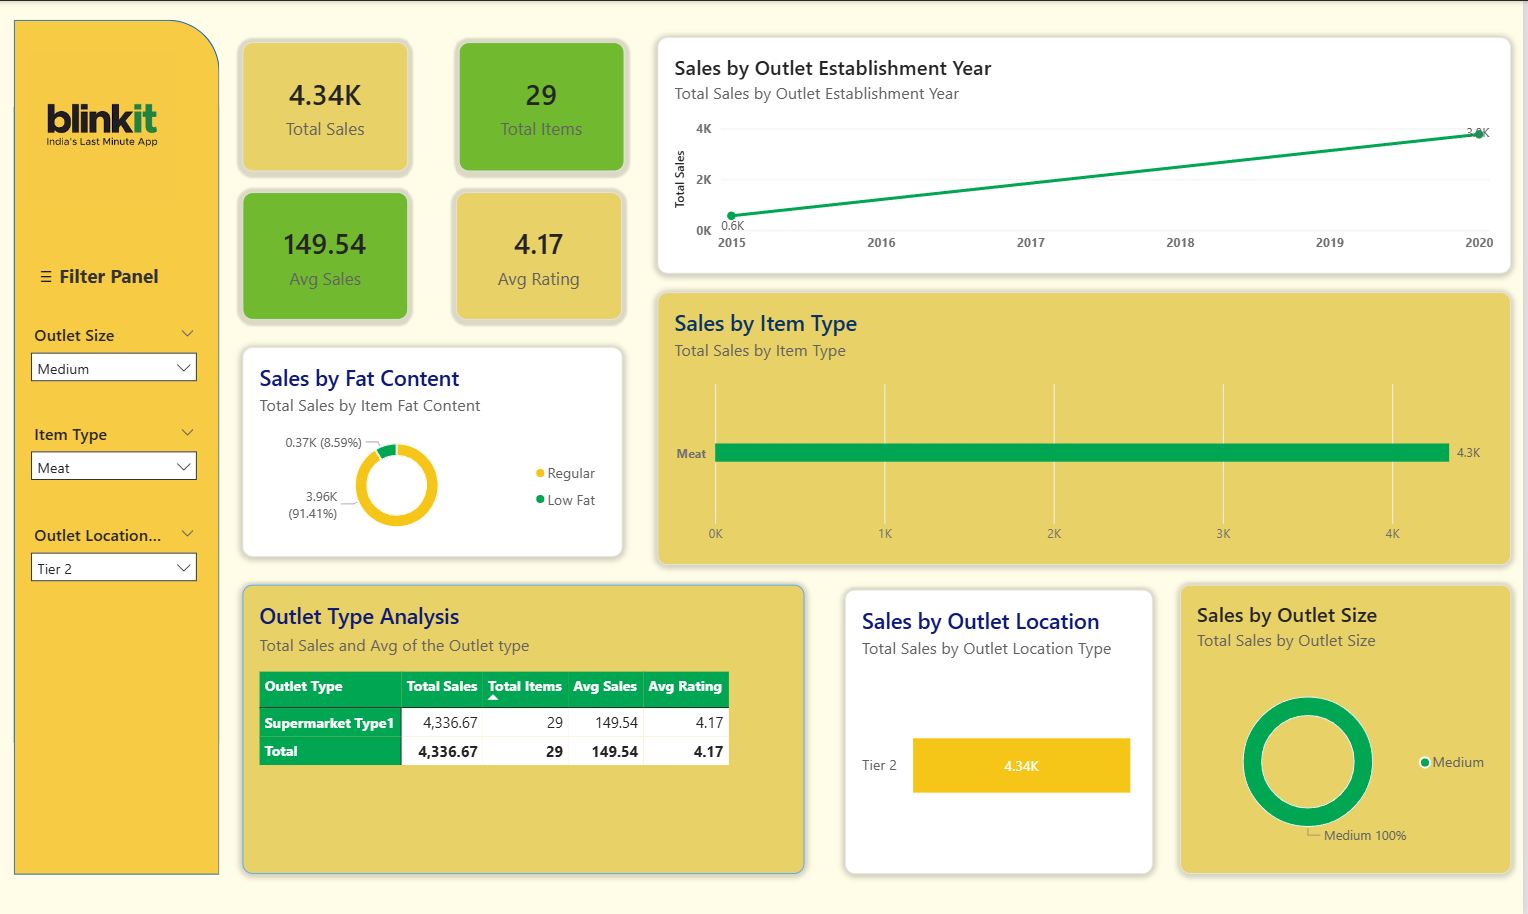

Layout of this report page (visuals, bound fields, positions):
{"tool":"powerbi","page":{"name":"Page 1","canvas":[1500,900],"ordinal":0},"visuals":[{"type":"card","fields":{"Values":["Key Measures.Total Sales"]},"box":[239,41.2,163.2,126.9],"z":0},{"type":"card","fields":{"Values":["Key Measures.Avg Sales"]},"box":[239,187.9,163.2,125.3],"z":1000},{"type":"card","fields":{"Values":["Key Measures.Avg Rating"]},"box":[450,187.9,163.2,125.3],"z":2000},{"type":"card","fields":{"Values":["Key Measures.Total Items"]},"box":[451.6,41.2,163.2,126.9],"z":3000},{"type":"donutChart","title":" Sales by Fat Content","fields":{"Category":["BlinkIT-Grocery-Data.Item Fat Content"],"Y":["Key Measures.Total Sales"]},"box":[239,341.2,374.2,206],"z":4000},{"type":"clusteredBarChart","title":"Sales by Item Type","fields":{"Category":["BlinkIT-Grocery-Data.Item Type"],"Y":["Key Measures.Total Sales"]},"box":[647.8,286.8,840.7,268.7],"z":5000},{"type":"donutChart","title":"Sales by Outlet Size","fields":{"Category":["BlinkIT-Grocery-Data.Outlet Size"],"Y":["Key Measures.Total Sales"]},"box":[1162.1,575.3,326.4,285.2],"z":6000},{"type":"lineChart","title":"Sales by Outlet Establishment Year","fields":{"Category":["BlinkIT-Grocery-Data.Outlet Establishment Year"],"Y":["Key Measures.Total Sales"]},"box":[647.8,36.3,840.7,232.4],"z":7000},{"type":"pivotTable","title":"Outlet Type Analysis","fields":{"Rows":["BlinkIT-Grocery-Data.Outlet Type"],"Values":["Key Measures.Total Sales","Key Measures.Total Items","Key Measures.Avg Sales","Key Measures.Avg Rating"]},"box":[239,575.3,553.8,285.2],"z":8000},{"type":"funnel","title":" Sales by Outlet Location","fields":{"Category":["BlinkIT-Grocery-Data.Outlet Location Type"],"Y":["Key Measures.Total Sales"]},"box":[832.4,580.2,303.3,280.2],"z":12000},{"type":"shape","box":[13.2,18.1,202.7,842.3],"z":12750},{"type":"slicer","fields":{"Values":["BlinkIT-Grocery-Data.Outlet Location Type"]},"box":[26.4,514.3,173.1,65.9],"z":12812},{"type":"slicer","fields":{"Values":["BlinkIT-Grocery-Data.Outlet Size"]},"box":[26.4,318.1,173.1,64.3],"z":12875},{"type":"slicer","fields":{"Values":["BlinkIT-Grocery-Data.Item Type"]},"box":[26.4,415.4,173.1,67.6],"z":13000},{"type":"textbox","box":[25.9,251.2,160.1,35.7],"z":15500},{"type":"image","box":[25.6,42,148.6,161.9],"z":16501}]}

Visuals, with their boxes in screenshot pixels (x1, y1, x2, y2), scaled from the page's 1500x900 canvas onto the 1528x914 screenshot:
card - Key Measures.Total Sales: bbox=[243, 42, 410, 171]
card - Key Measures.Avg Sales: bbox=[243, 191, 410, 318]
card - Key Measures.Avg Rating: bbox=[458, 191, 625, 318]
card - Key Measures.Total Items: bbox=[460, 42, 626, 171]
" Sales by Fat Content" donutChart: bbox=[243, 347, 625, 556]
"Sales by Item Type" clusteredBarChart: bbox=[660, 291, 1516, 564]
"Sales by Outlet Size" donutChart: bbox=[1184, 584, 1516, 874]
"Sales by Outlet Establishment Year" lineChart: bbox=[660, 37, 1516, 273]
"Outlet Type Analysis" pivotTable: bbox=[243, 584, 808, 874]
" Sales by Outlet Location" funnel: bbox=[848, 589, 1157, 874]
shape: bbox=[13, 18, 220, 874]
slicer - BlinkIT-Grocery-Data.Outlet Location Type: bbox=[27, 522, 203, 589]
slicer - BlinkIT-Grocery-Data.Outlet Size: bbox=[27, 323, 203, 388]
slicer - BlinkIT-Grocery-Data.Item Type: bbox=[27, 422, 203, 491]
textbox: bbox=[26, 255, 189, 291]
image: bbox=[26, 43, 177, 207]
